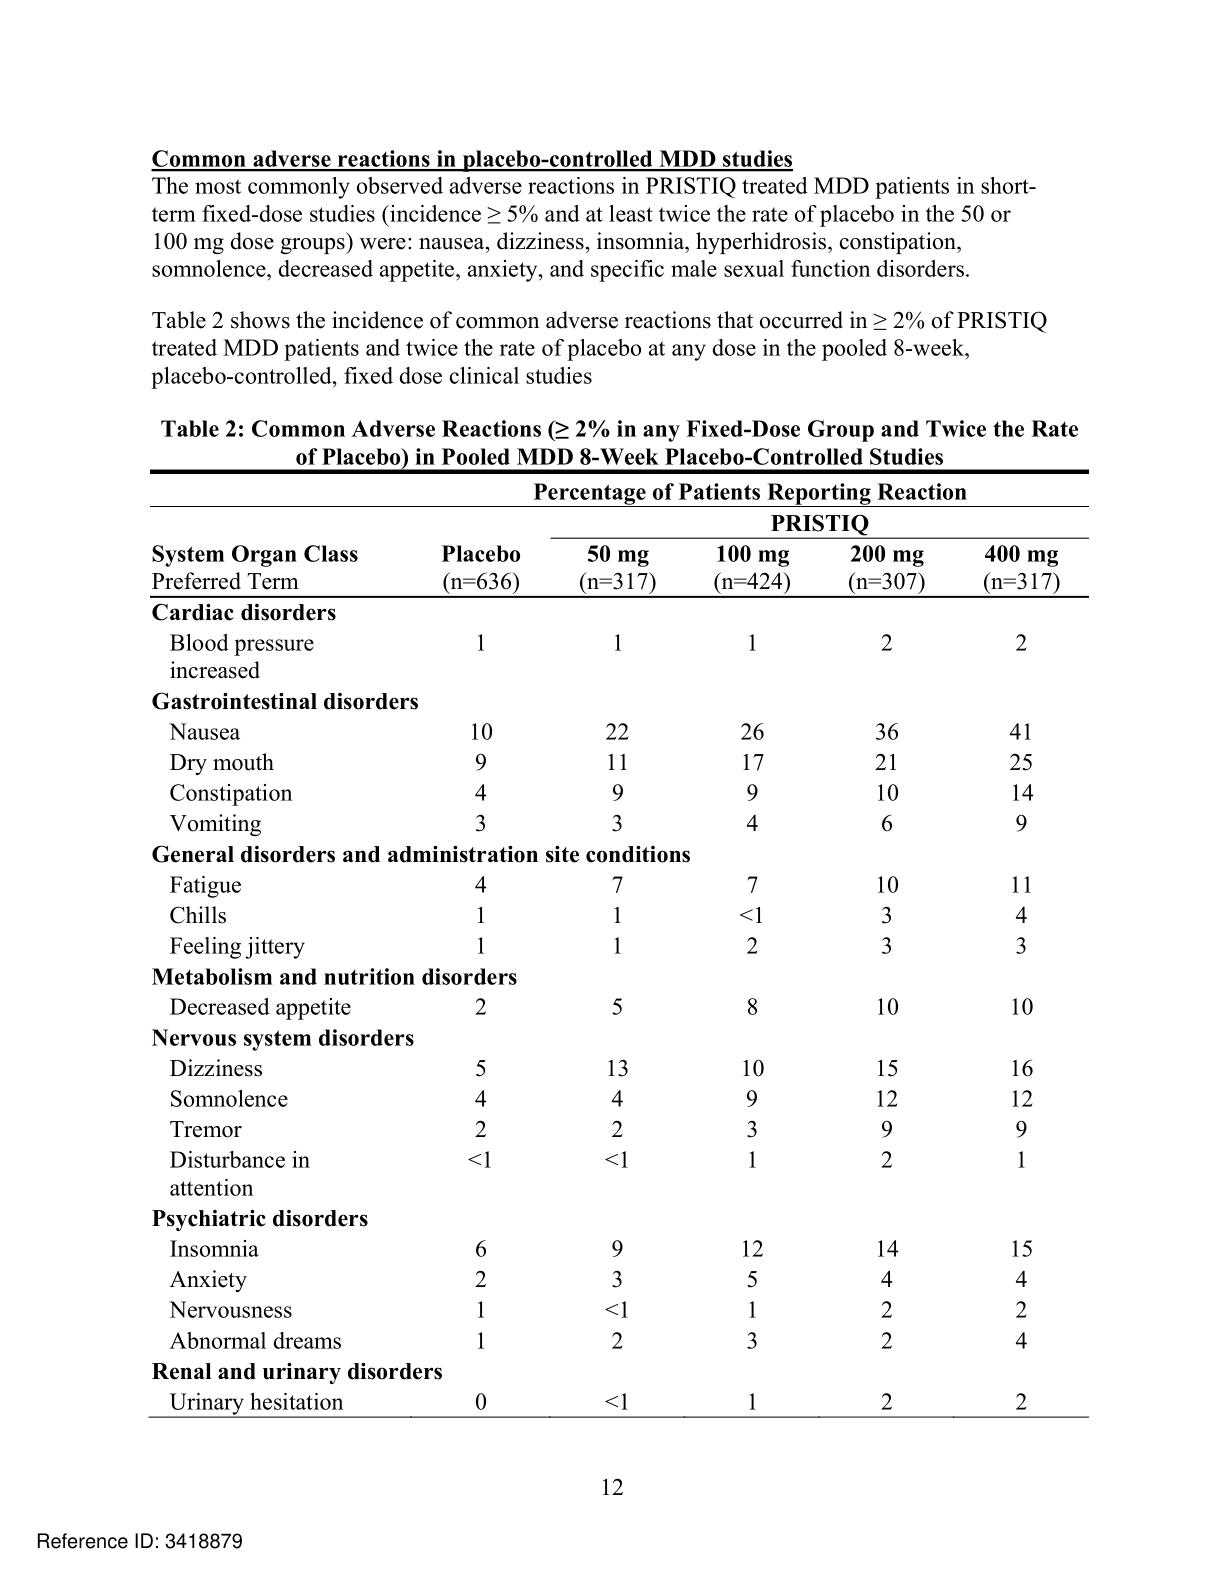partial_lined_merged_cells: (147, 468, 1089, 1419)
